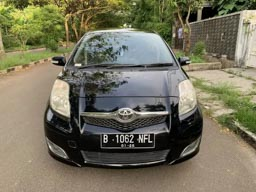plat: (100, 134, 154, 143)
